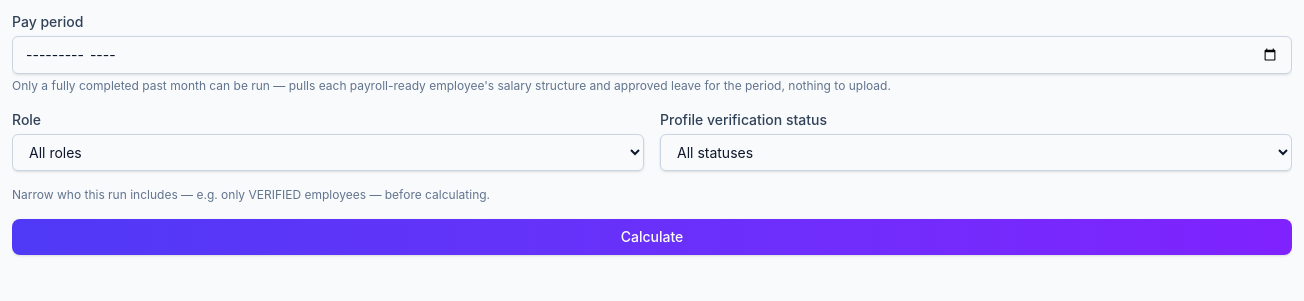
Test: PayrollRunForm › badges an already-paid employee separately from a skipped one, and says so in the summary
The width and height of the screenshot is (1304, 301).
Step 1. Type "2026-03" into the field labelled "Pay period" → (652, 55), box [12,36,1292,74]
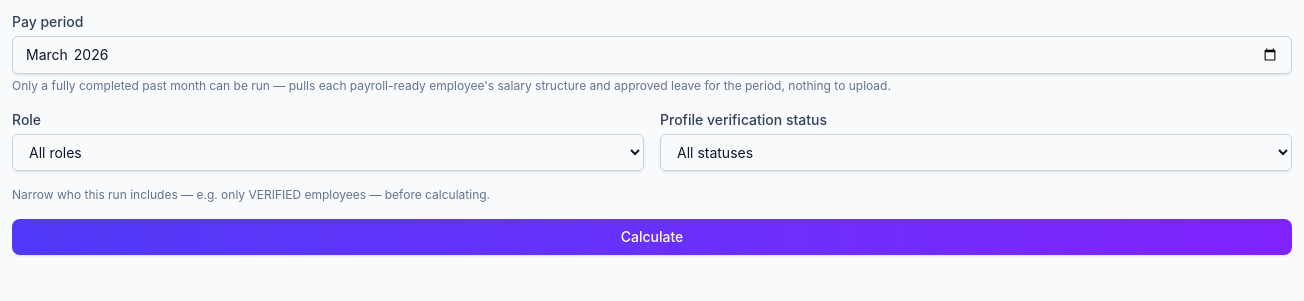
Step 2. Click the button "Calculate" → (652, 237), box [12,219,1292,255]
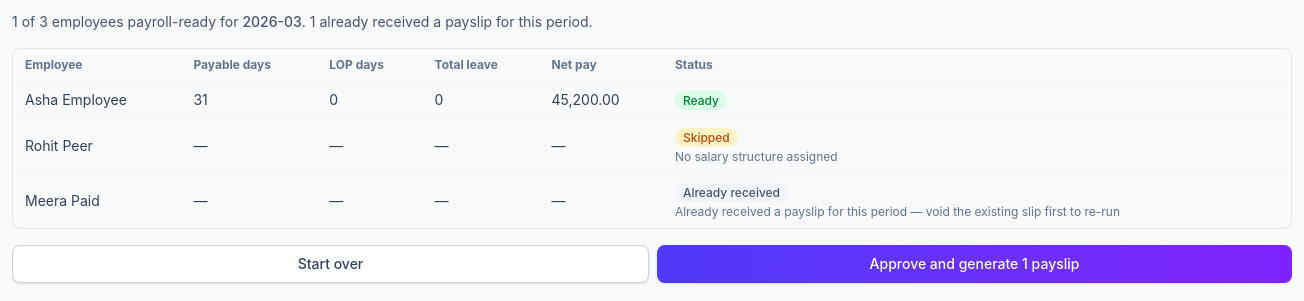
Check: the text "Already received" is shown, box [675,183,788,202]
Check: the text "void the existing slip first" is shown, box [675,204,1120,219]
Check: the text "1 already received a payslip for this period." is shown, box [306,13,593,30]
